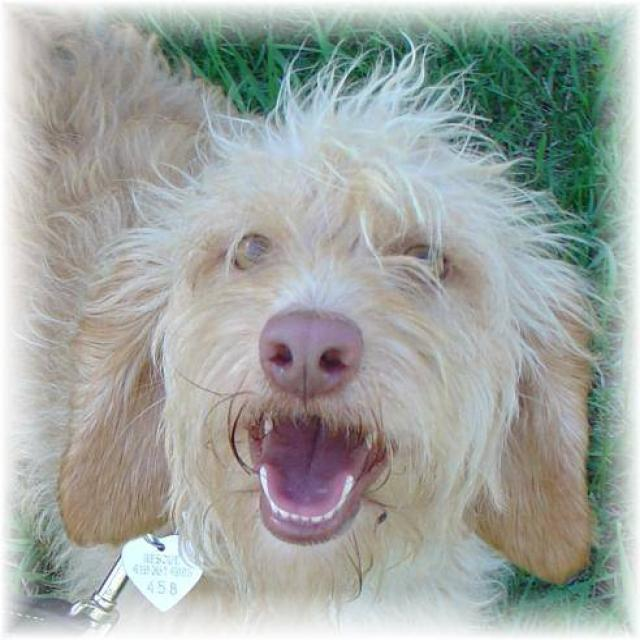dog: (3, 8, 606, 632)
